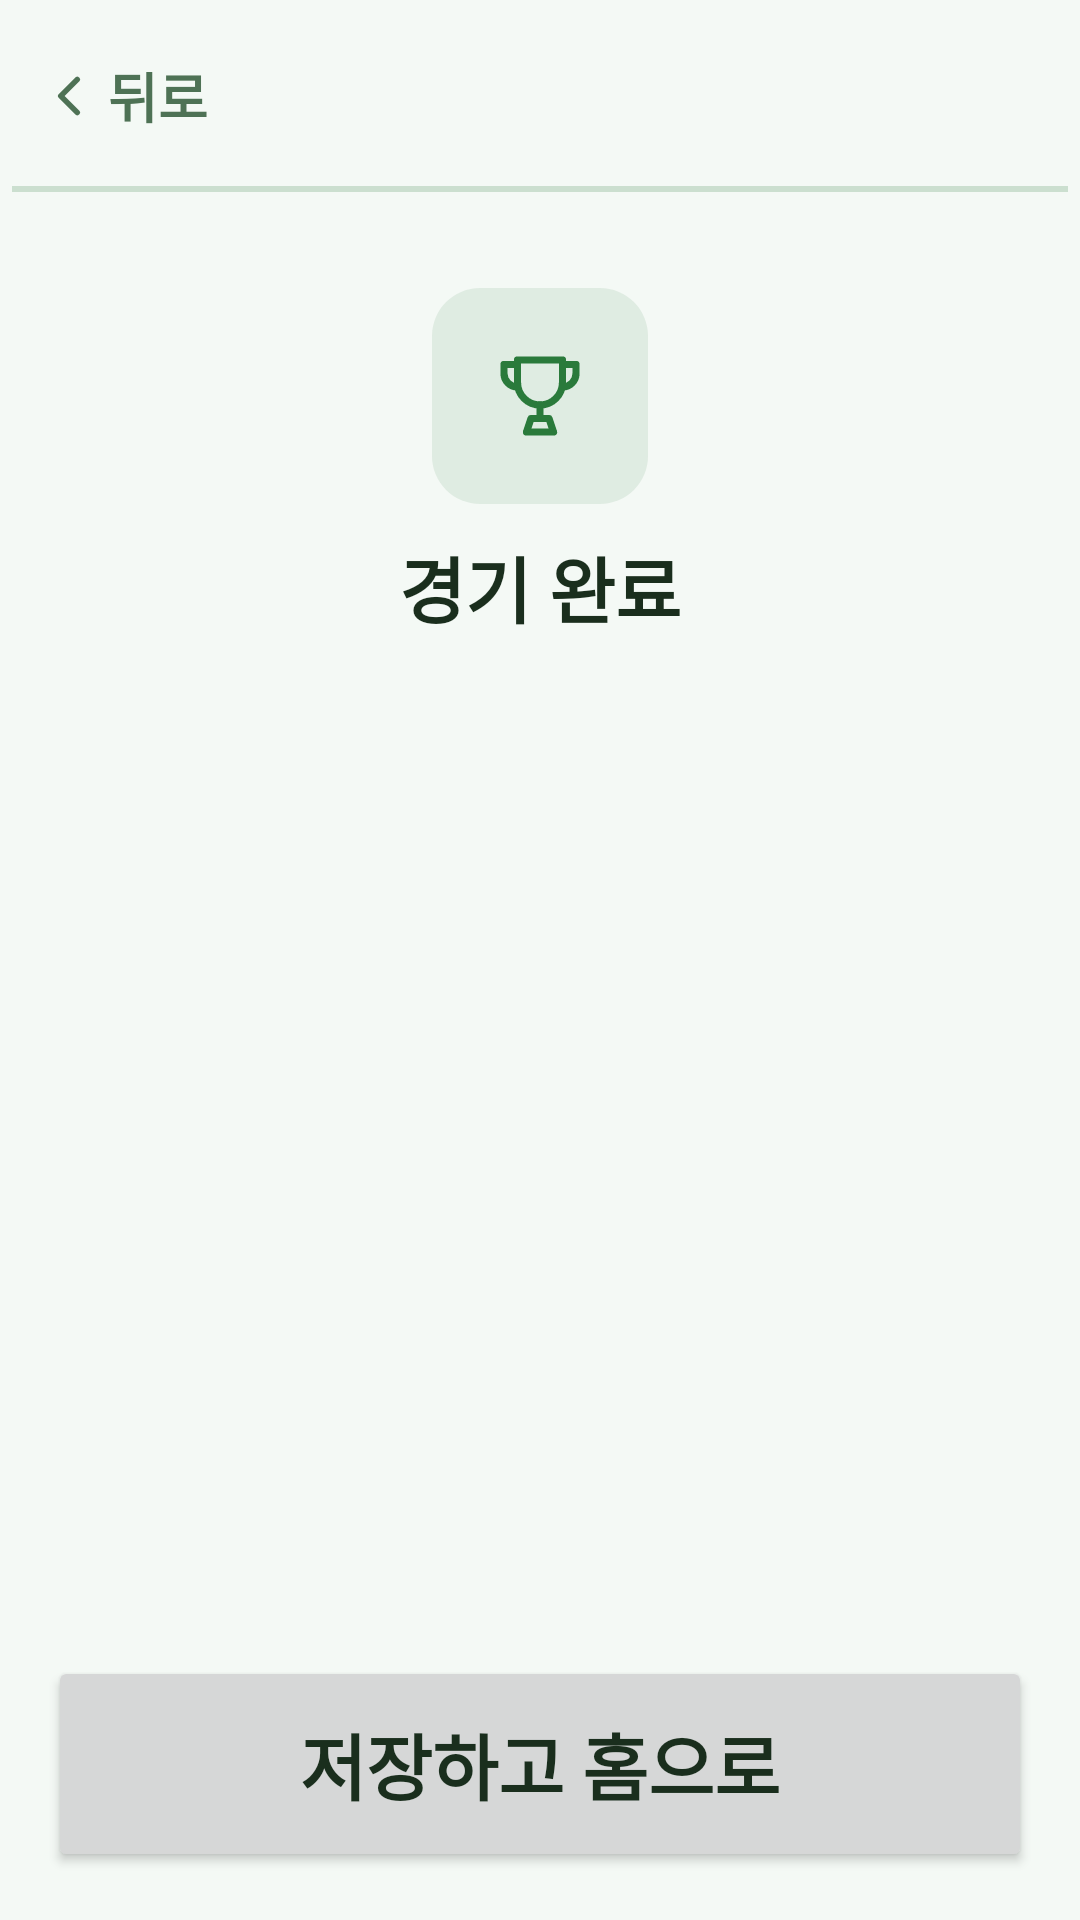

Named icons in this screenshot (1080x1920) and their centers, (x,y):
chevron left: (69,96)
trophy: (540,396)
